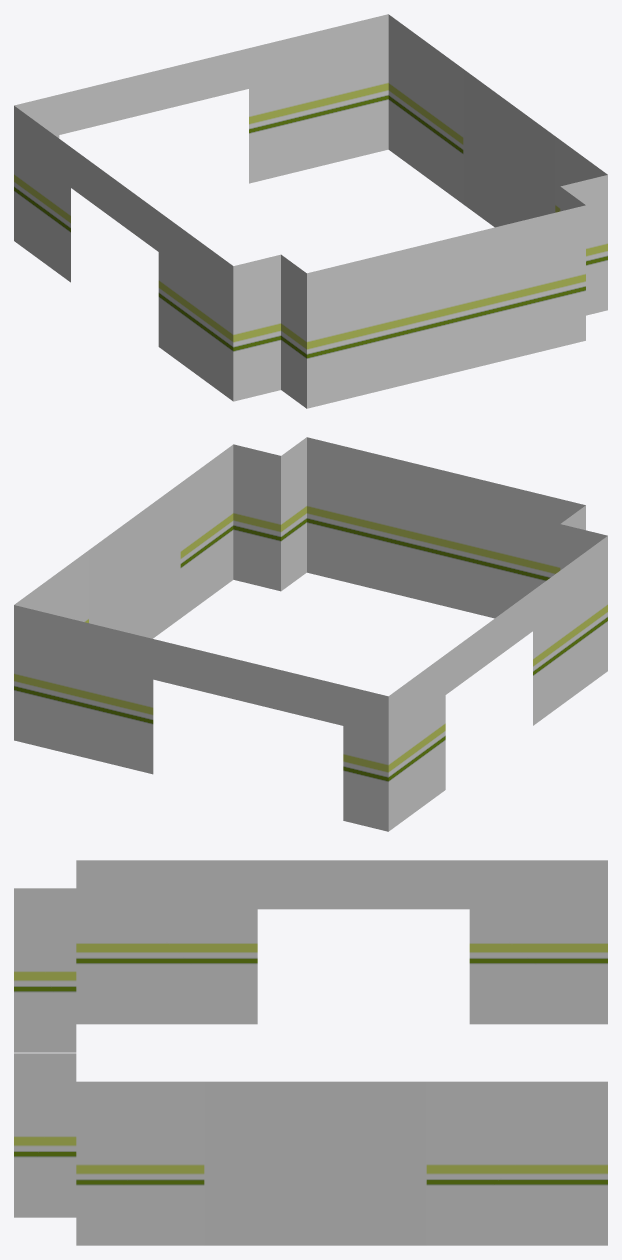
The model's file is wall_re.FBX.
3 views of the same model, one above another, from view 1: azimuth 30°, elevation 25°; view 2: azimuth 150°, elevation 25°; view 3: azimuth 270°, elevation 25° (orthographic). The views are drawn at different scales.
Parts seen in each view (by area): view 1: wall, wallglass; view 2: wall, wallglass; view 3: wall, wallglass.
Part boxes in pixels (x1=…): wall: x1=14, y1=14, x2=607, y2=408; wallglass: x1=463, y1=69, x2=555, y2=227; wall: x1=14, y1=437, x2=607, y2=831; wallglass: x1=89, y1=483, x2=180, y2=638; wall: x1=14, y1=860, x2=607, y2=1245; wallglass: x1=204, y1=1081, x2=426, y2=1245.
Size of the model in its own units: 8.68 by 3 by 9.84.
